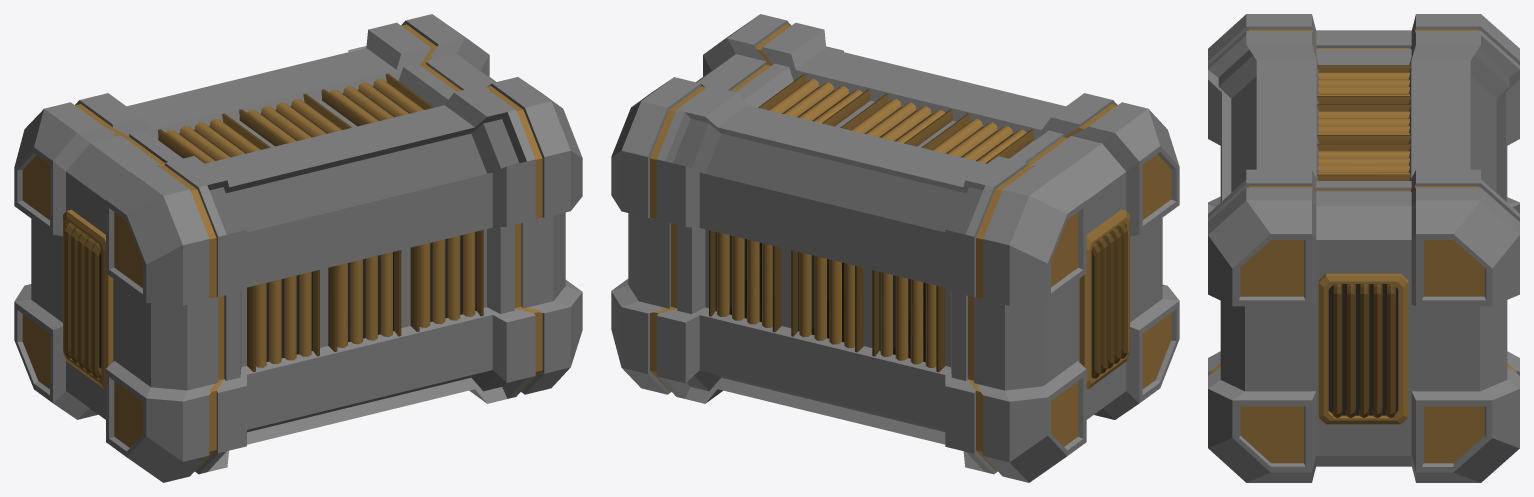
Rendered from crate_long.glb.
The picture shows the model from 3 angles, left to right: view 1: azimuth 30°, elevation 25°; view 2: azimuth 150°, elevation 25°; view 3: azimuth 270°, elevation 25°; orthographic projection.
Parts seen in each view (by area): view 1: crate_long; view 2: crate_long; view 3: crate_long.
Part boxes in pixels (<box>): crate_long: <box>14,14,582,482</box>; crate_long: <box>611,14,1179,482</box>; crate_long: <box>1208,14,1519,482</box>.
Size of the model in its own units: 2 by 1.25 by 1.25.
